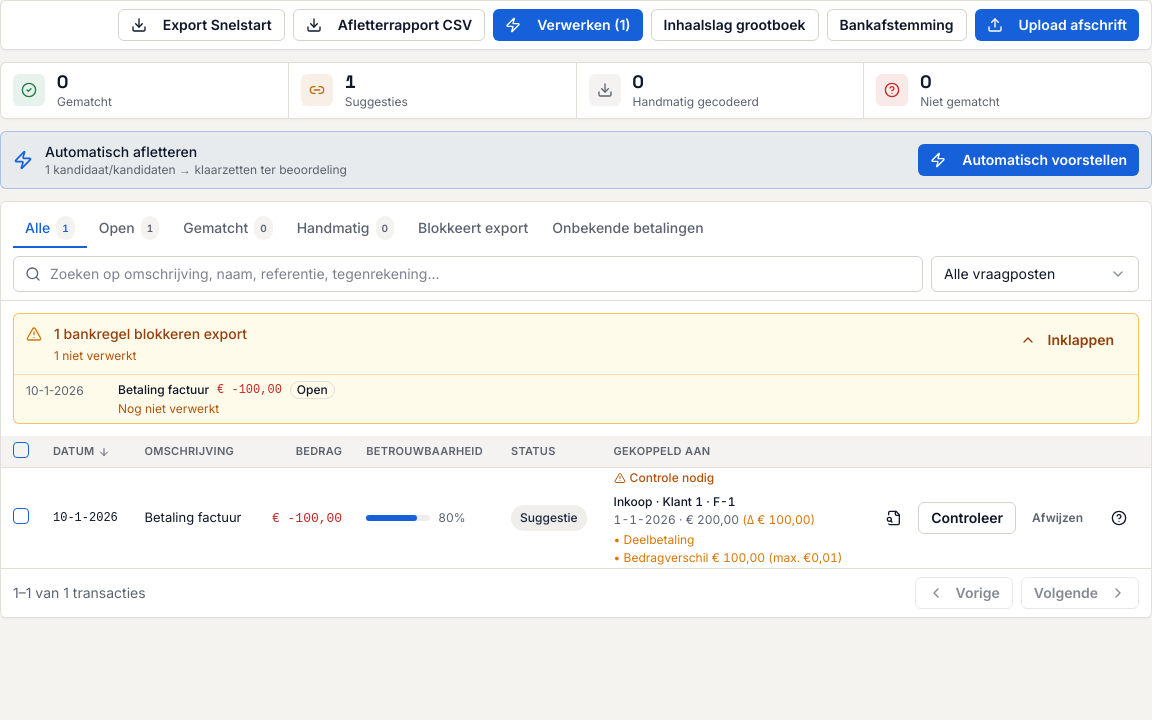
Bank — veilige matches (banner + selectieknop) › valt nooit terug op een lager gerangschikte factuur als de topkandidaat een deelbetaling is
This screenshot has width=1152, height=720.
Click the 2nd checkbox.
click(21, 516)  # box [13, 508, 29, 524]
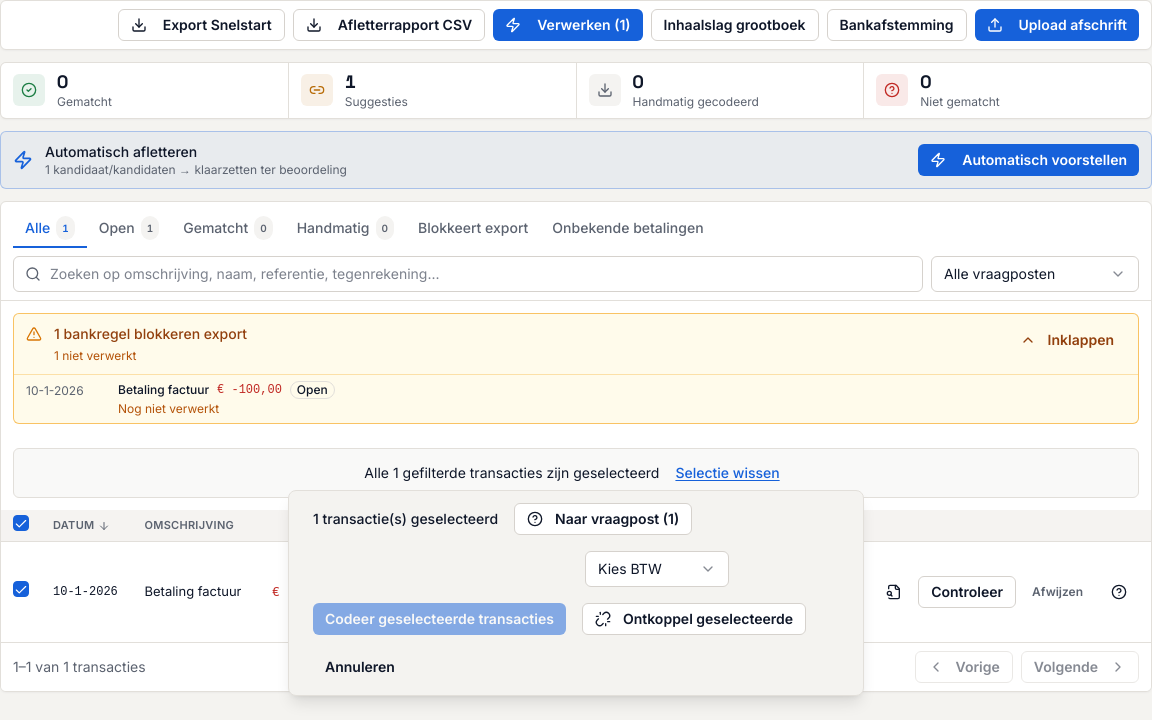
Expected: the text "1 transactie(s) geselecteerd" is shown, [313, 509, 498, 529]
